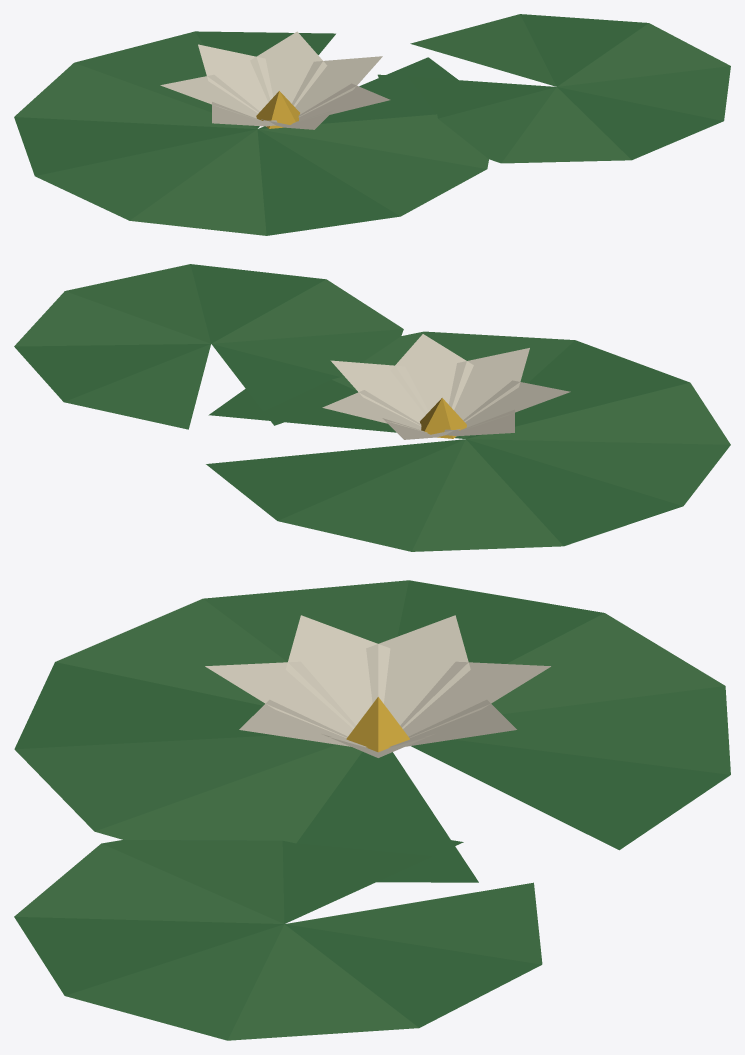
The model's file is lilypad_white_flower_lod0.glb.
The picture shows the model from 3 angles, top to bottom: view 1: azimuth 30°, elevation 25°; view 2: azimuth 150°, elevation 25°; view 3: azimuth 270°, elevation 25°; orthographic projection. The views are drawn at different scales.
Visible parts, largest first — view 1: lilypad_white_flower_lod0; view 2: lilypad_white_flower_lod0; view 3: lilypad_white_flower_lod0.
Boxes of the visible parts, x1,y1,x2,y2 form: lilypad_white_flower_lod0: [14, 14, 730, 235]; lilypad_white_flower_lod0: [14, 264, 730, 551]; lilypad_white_flower_lod0: [14, 580, 730, 1040].
Bounding box in the file's own units: 1.16 × 0.08 × 0.7648.
